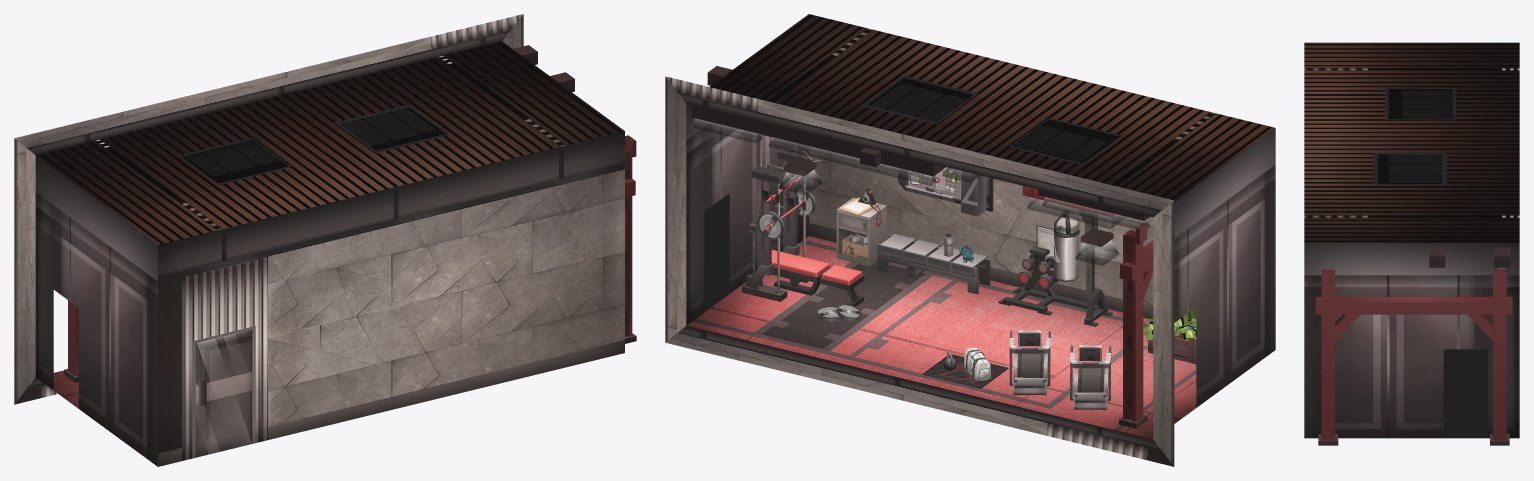
File: training.glb
3 views of the same model, side by side, from view 1: azimuth 30°, elevation 25°; view 2: azimuth 150°, elevation 25°; view 3: azimuth 270°, elevation 25° (orthographic). The views are drawn at different scales.
Parts seen in each view (by area): view 1: SHELL_room_01, SHELL_room_02, OBJ_room_inner_4x2x2_training_01; view 2: SHELL_room_01, SHELL_room_02, OBJ_room_inner_4x2x2_training_01, OBJ_room_inner_4x2x2_training_02, OBJ_room_inner_4x2x2_training_light_02, OBJ_room_inner_4x2x2_training_04, SHELL_LDoor, OBJ_room_inner_4x2x2_training_03, OBJ_room_inner_4x2x2_training_light_01, OBJ_room_inner_4x2x2_training_05; view 3: SHELL_room_01, OBJ_room_inner_4x2x2_training_01, SHELL_LDoor.
Part boxes in pixels (left/top/right/bottom): SHELL_room_01: left=35, top=41, right=624, bottom=466; SHELL_room_02: left=14, top=14, right=523, bottom=404; OBJ_room_inner_4x2x2_training_01: left=64, top=45, right=636, bottom=382; SHELL_room_01: left=686, top=14, right=1275, bottom=439; SHELL_room_02: left=665, top=76, right=1174, bottom=466; OBJ_room_inner_4x2x2_training_01: left=691, top=66, right=1196, bottom=428; OBJ_room_inner_4x2x2_training_02: left=762, top=148, right=1111, bottom=400; OBJ_room_inner_4x2x2_training_light_02: left=694, top=118, right=1149, bottom=228; OBJ_room_inner_4x2x2_training_04: left=870, top=170, right=1196, bottom=388; SHELL_LDoor: left=704, top=193, right=729, bottom=312; OBJ_room_inner_4x2x2_training_03: left=905, top=167, right=986, bottom=216; OBJ_room_inner_4x2x2_training_light_01: left=778, top=167, right=1118, bottom=265; OBJ_room_inner_4x2x2_training_05: left=838, top=173, right=984, bottom=376; SHELL_room_01: left=1304, top=42, right=1519, bottom=438; OBJ_room_inner_4x2x2_training_01: left=1315, top=247, right=1512, bottom=445; SHELL_LDoor: left=1443, top=349, right=1487, bottom=438.
Size of the model in its own units: 5.28 by 2.64 by 2.2.
Materials: 10 (10 with a texture image).
